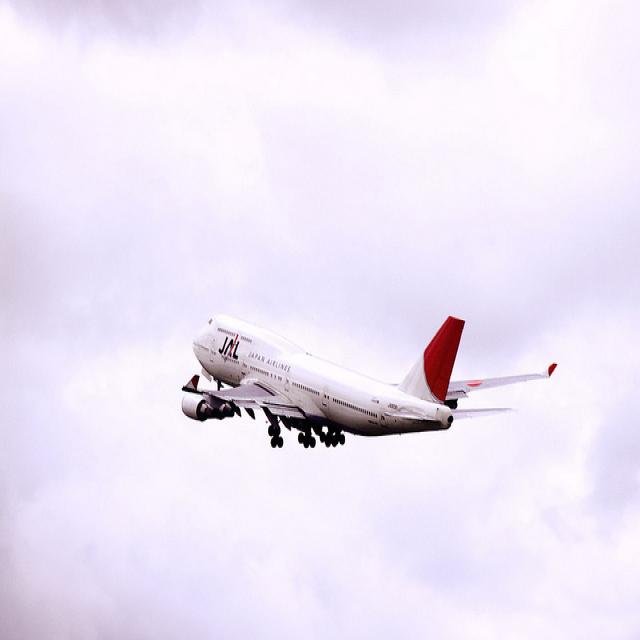airplane: (179, 308, 559, 451)
